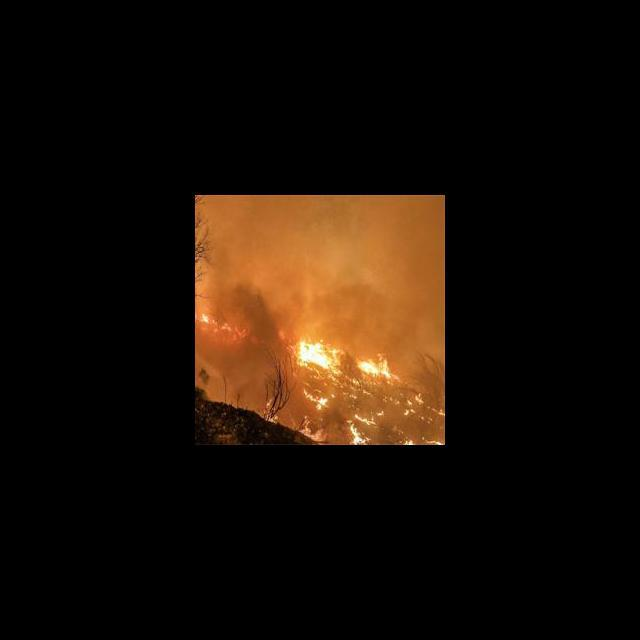Fire: (284, 331, 444, 444), (195, 307, 252, 346)
